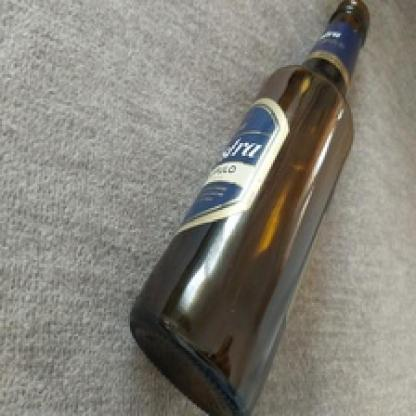Can: (129, 0, 371, 416)
